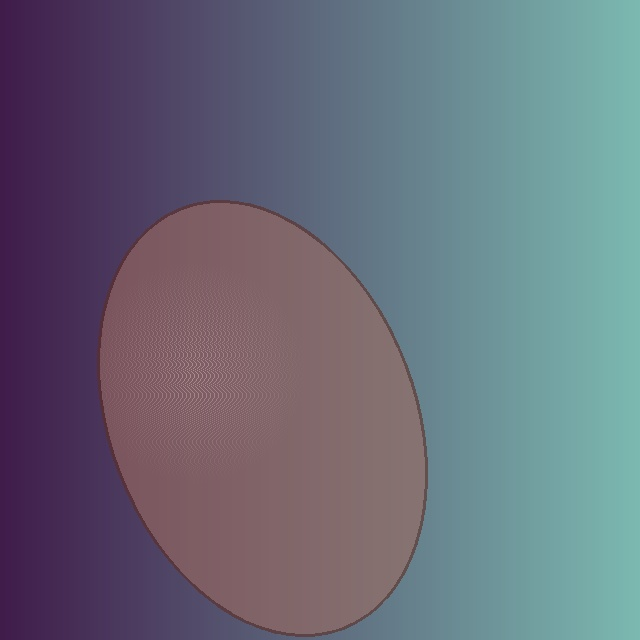lens: (98, 201, 426, 635)
